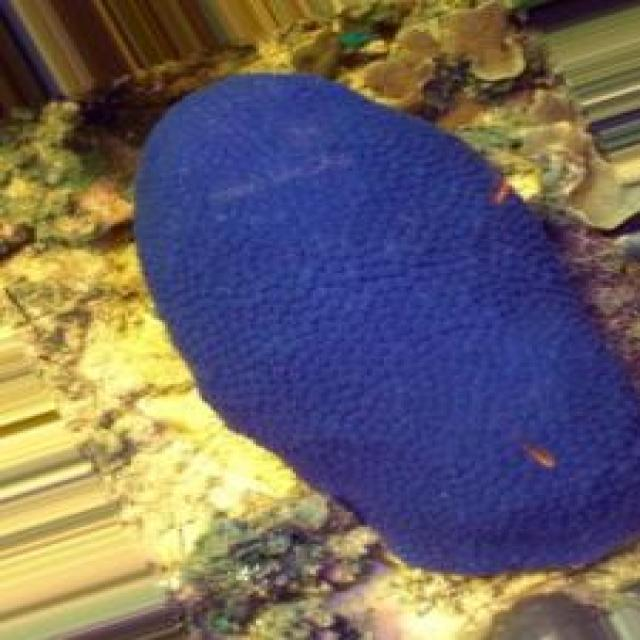Healthy: (138, 74, 640, 579)
